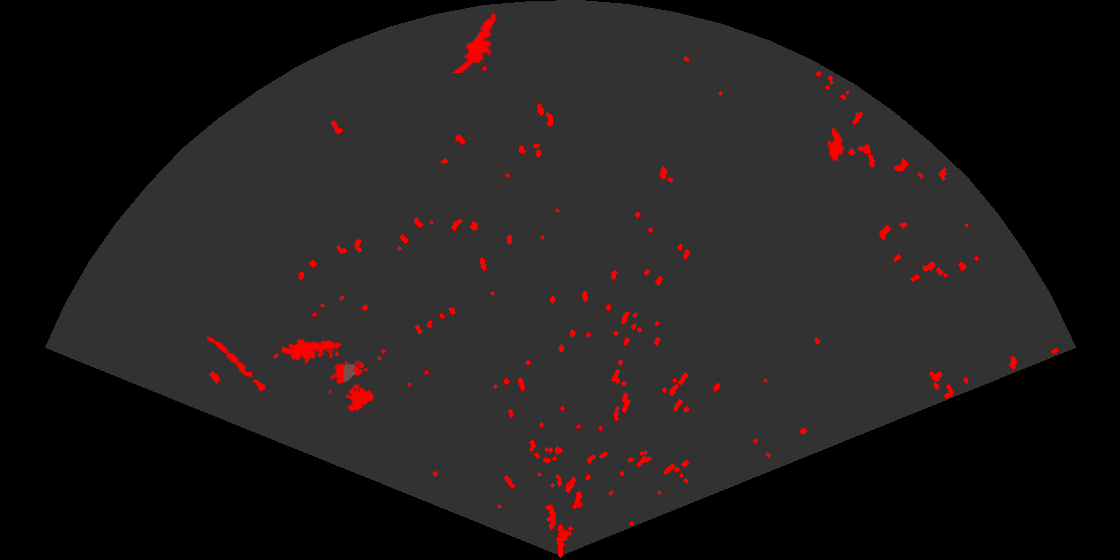AUV: (826, 126, 846, 163)
cage: (329, 351, 376, 414)
chain: (205, 335, 273, 396)
frogman: (451, 12, 499, 73), (282, 337, 343, 366)
